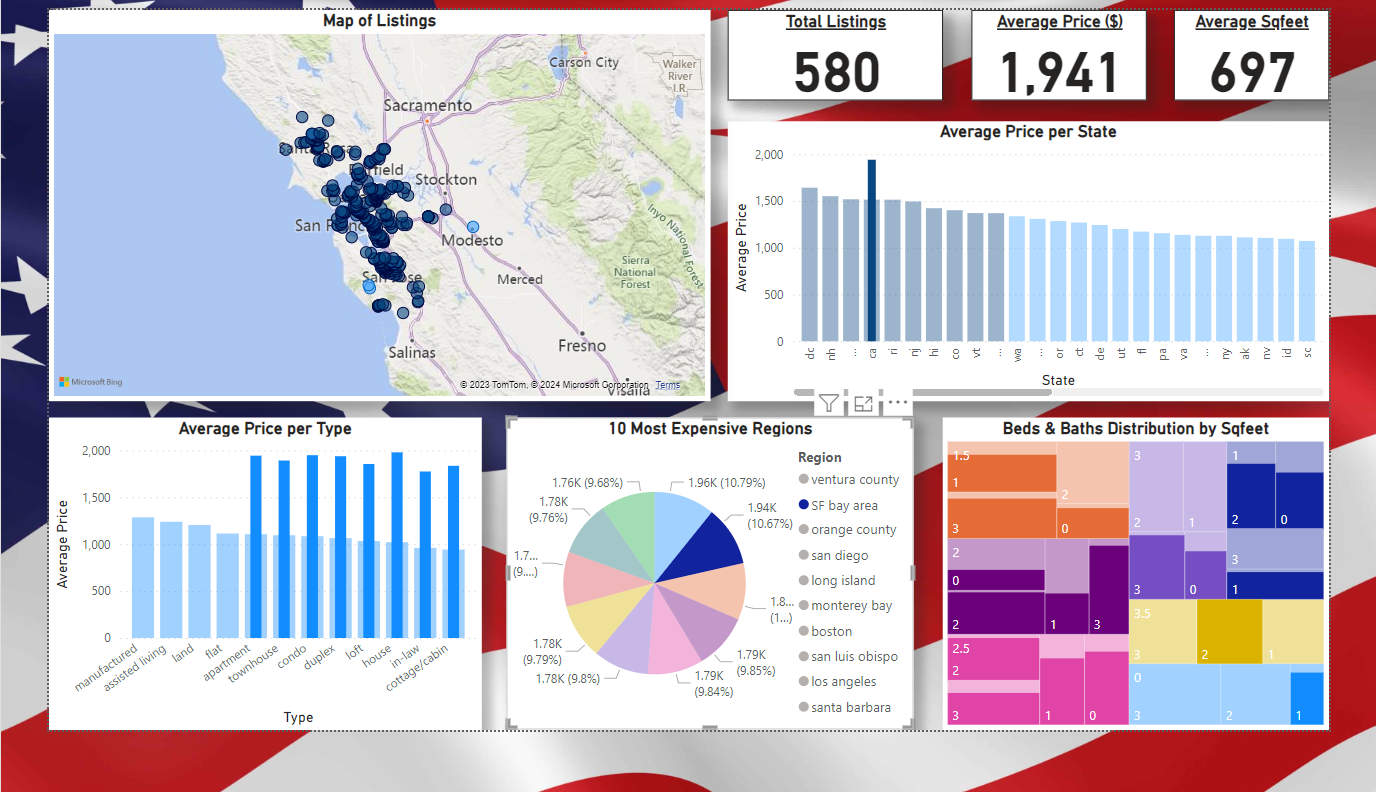

The dashboard page shown, as its layout file describes it:
{"tool":"powerbi","page":{"name":"Page 1","canvas":[1280,720],"ordinal":0},"visuals":[{"type":"columnChart","title":"Average Price per State","fields":{"Category":["Location Dim.State"],"Y":["Measures.AVG_PRICE"]},"box":[678.8,111.2,601.2,280],"z":0},{"type":"map","title":"Map of Listings","fields":{"Y":["Location Dim.Lat"],"X":["Location Dim.Long"]},"box":[0,0,661.2,391.2],"z":1000},{"type":"card","title":"Average Price ($)","fields":{"Values":["Measures.AVG_PRICE"]},"box":[922.5,0,175,90],"z":2000},{"type":"card","title":"Total Listings","fields":{"Values":["Listings Fact.Listings Fact Count"]},"box":[678.8,0,215,90],"z":3000},{"type":"card","title":"Average Sqfeet","fields":{"Values":["Measures.AVG_SQFEET"]},"box":[1125,0,155,90],"z":4000},{"type":"columnChart","title":"Average Price per Type","fields":{"Category":["Property Dim.Type"],"Y":["Measures.AVG_PRICE"]},"box":[0,407.5,432.5,312.5],"z":5000},{"type":"pieChart","title":"10 Most Expensive Regions","fields":{"Category":["Location Dim.Region"],"Y":["Measures.AVG_PRICE"]},"box":[457.5,407.5,407.5,312.5],"z":6000},{"type":"treemap","title":"Beds & Baths Distribution by Sqfeet","fields":{"Group":["Property Dim.Baths"],"Details":["Property Dim.Beds"],"Values":["Measures.AVG_SQFEET"]},"box":[893.8,407.5,386.2,312.5],"z":6001}]}

Visuals, with their boxes in screenshot pixels (x1, y1, x2, y2), scaled from the page's 1280x720 canvas onto the 1376x792 screenshot:
"Average Price per State" columnChart: 730:122:1375:430
"Map of Listings" map: 0:0:711:430
"Average Price ($)" card: 992:0:1180:99
"Total Listings" card: 730:0:961:99
"Average Sqfeet" card: 1209:0:1375:99
"Average Price per Type" columnChart: 0:448:465:791
"10 Most Expensive Regions" pieChart: 492:448:930:791
"Beds & Baths Distribution by Sqfeet" treemap: 961:448:1375:791
